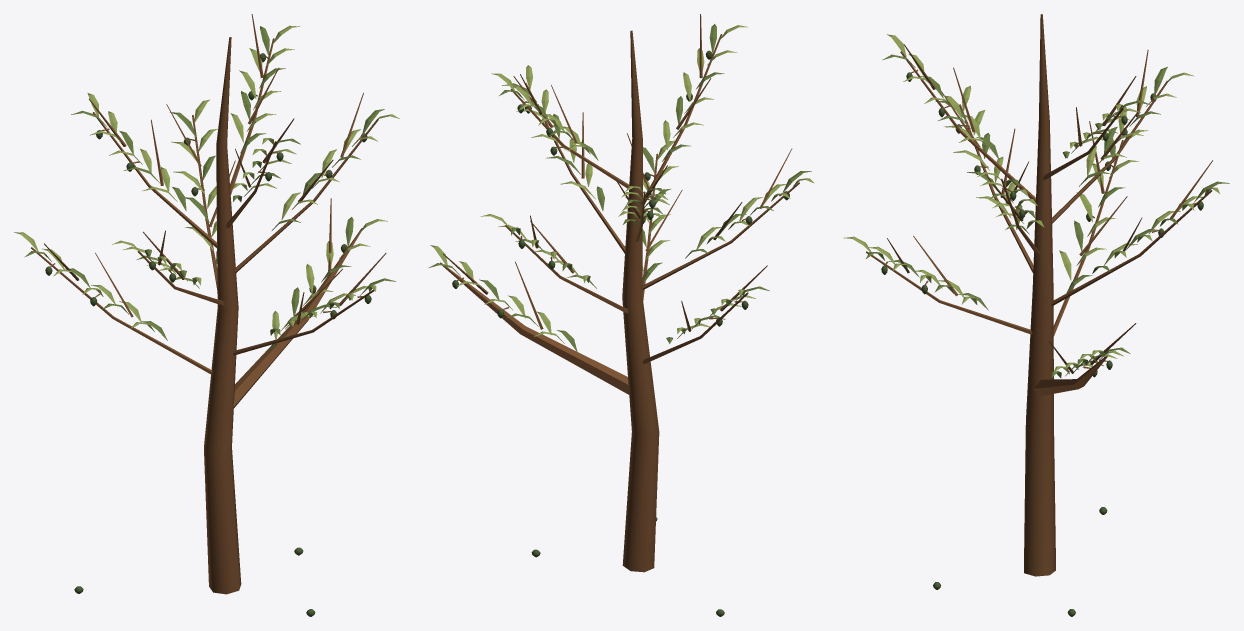
File: crop_olive_tree_overripe.glb
3 views of the same model, side by side, from view 1: azimuth 30°, elevation 25°; view 2: azimuth 150°, elevation 25°; view 3: azimuth 270°, elevation 25° (orthographic). The views are drawn at different scales.
Visible parts, largest first — view 1: olive_b_0, olive_leaf_0_1, olive_leaf_0_0, olive_fruit_0_0; view 2: olive_b_0, olive_leaf_0_1, olive_leaf_0_0, olive_fruit_0_0; view 3: olive_b_0, olive_leaf_0_1, olive_leaf_0_0, olive_fruit_0_0.
Boxes of the visible parts, x1,y1,x2,y2 form: olive_b_0: (31,14,386,594); olive_leaf_0_1: (14,25,399,339); olive_leaf_0_0: (24,26,396,352); olive_fruit_0_0: (45,53,371,616); olive_b_0: (440,14,799,572); olive_leaf_0_1: (430,25,814,343); olive_leaf_0_0: (428,24,811,351); olive_fruit_0_0: (452,50,789,616); olive_b_0: (866,14,1212,576); olive_leaf_0_1: (843,34,1219,376); olive_leaf_0_0: (866,54,1229,377); olive_fruit_0_0: (881,72,1203,616).
Bounding box in the file's own units: 1.71 × 2.52 × 1.58.
